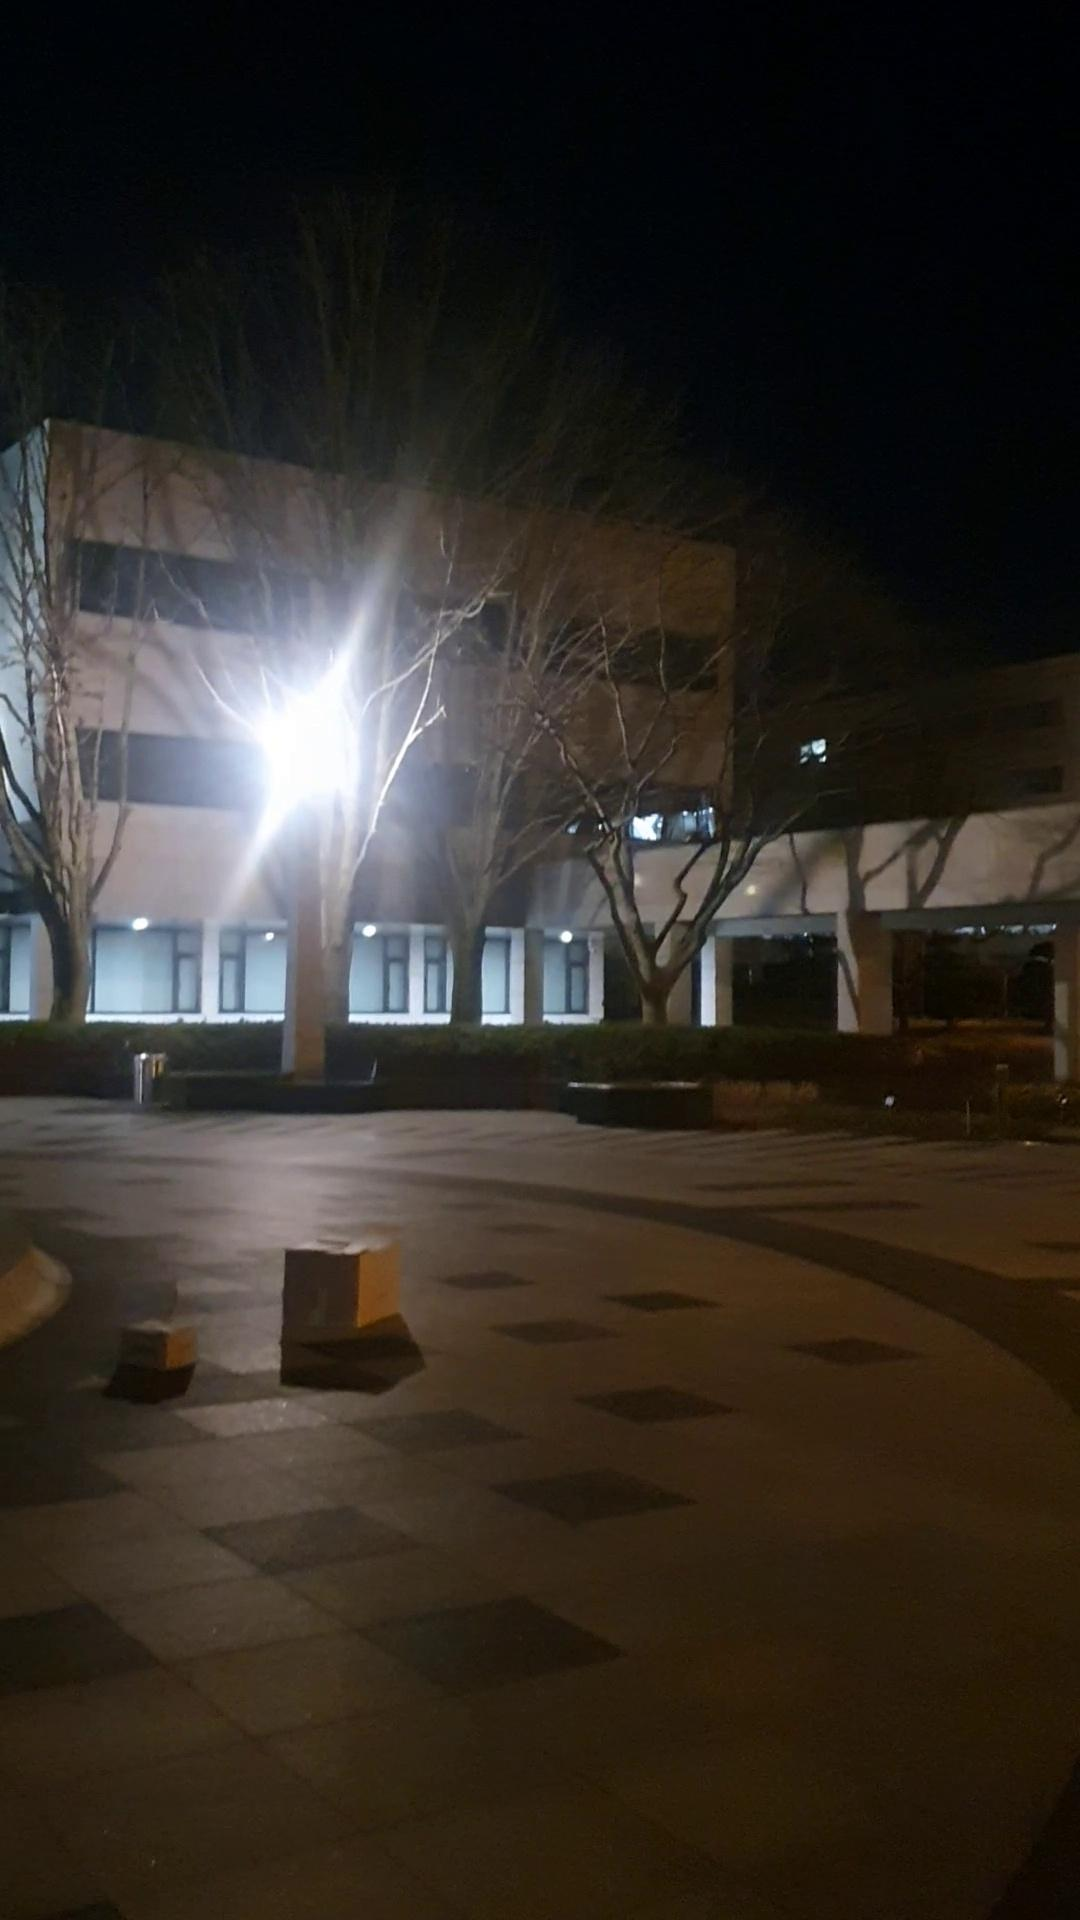Box: (281, 1230, 405, 1335), (121, 1315, 190, 1375)
